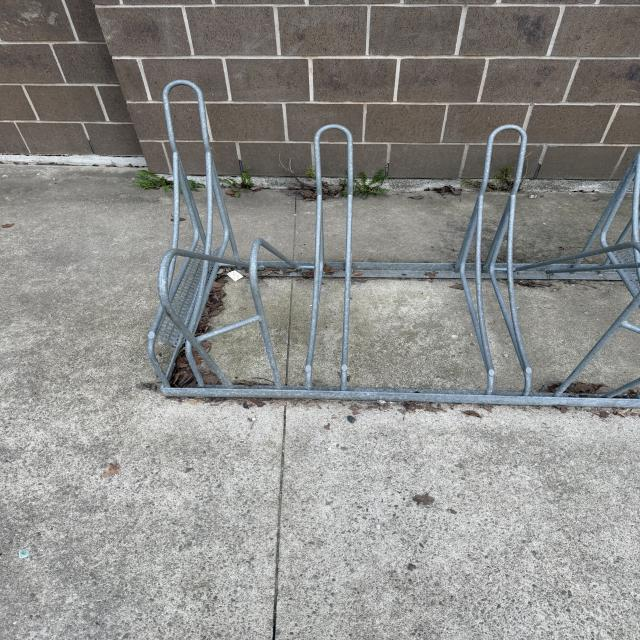Bicycle Rack: (147, 80, 640, 408)
